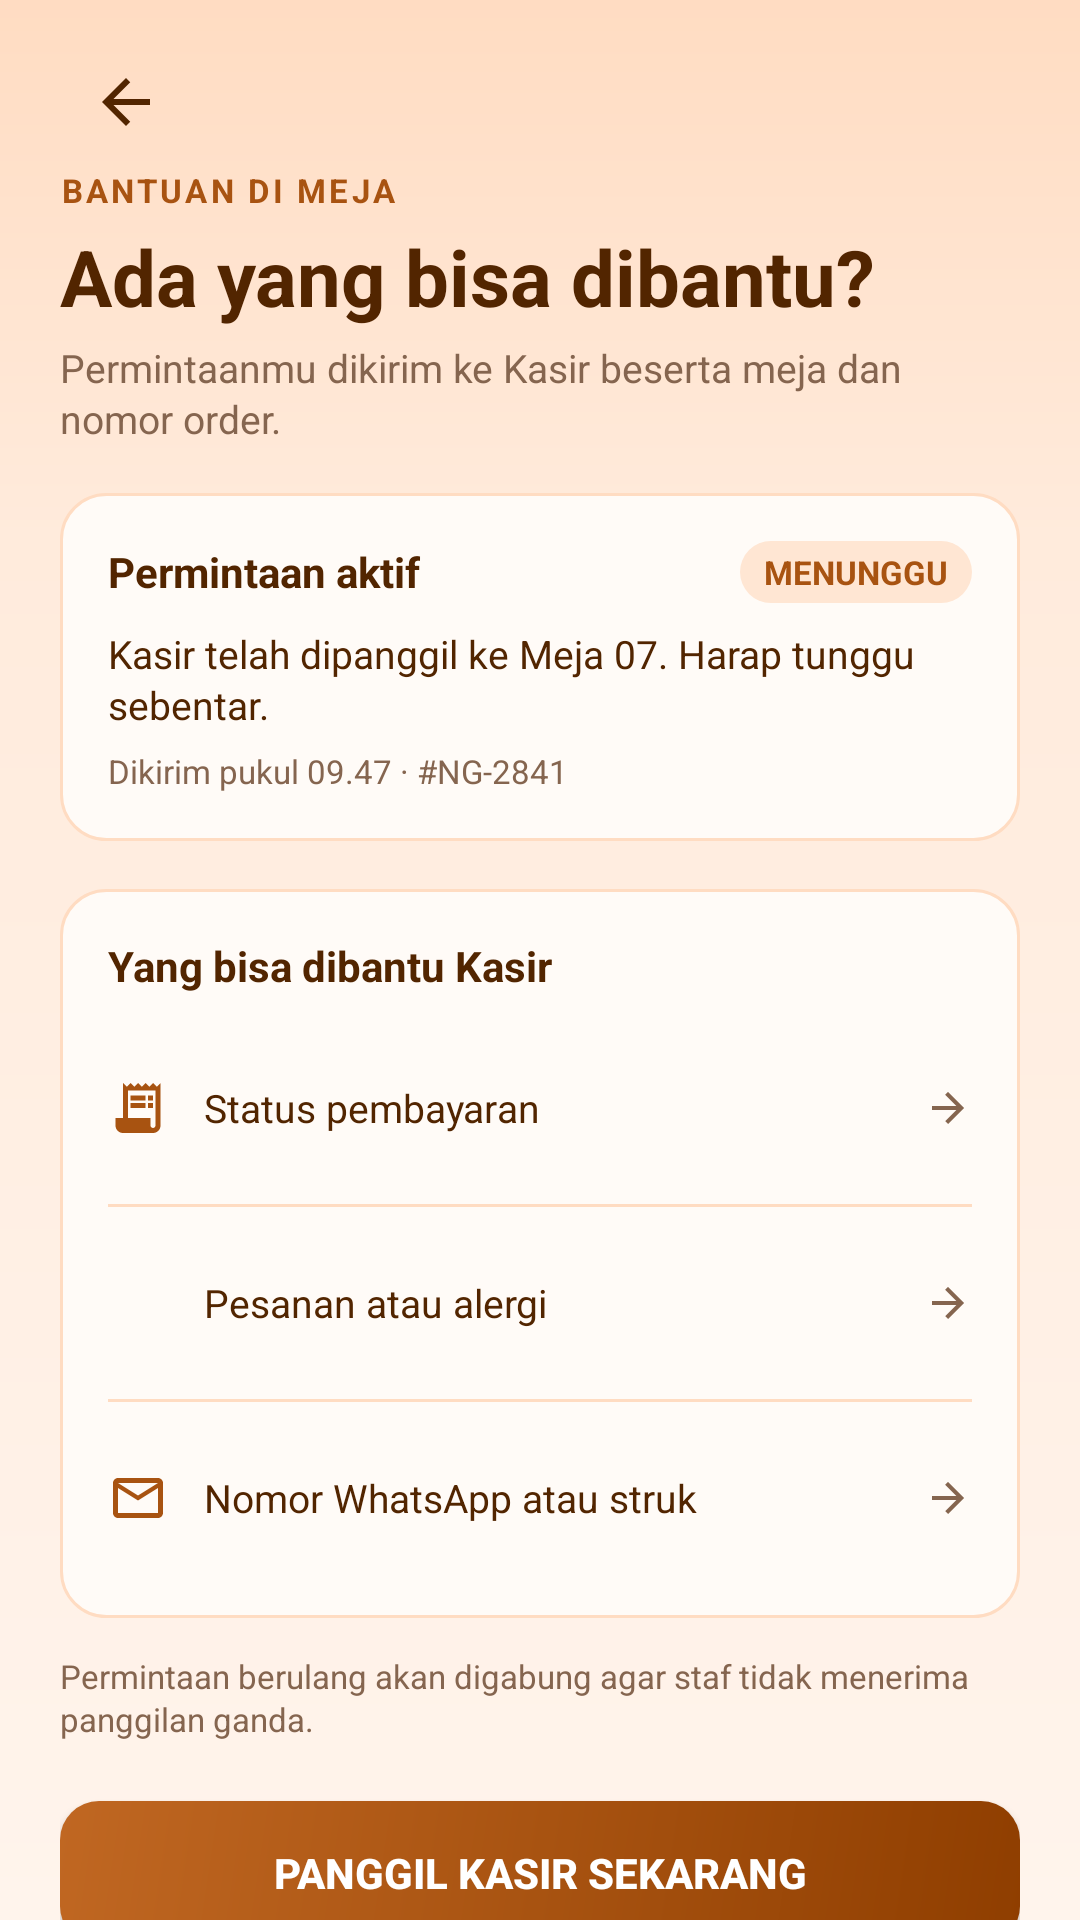

Named icons in this screenshot (1080x1920) and their bounding boxes, [left=x1, top=y1, right=x2, bottom=y2]:
arrow forward: [left=932, top=1092, right=964, bottom=1124], [left=932, top=1287, right=964, bottom=1319], [left=932, top=1482, right=964, bottom=1514]
Kembali: [left=102, top=78, right=150, bottom=126]
mail: [left=113, top=1478, right=163, bottom=1518]
receipt: [left=115, top=1083, right=161, bottom=1133]
